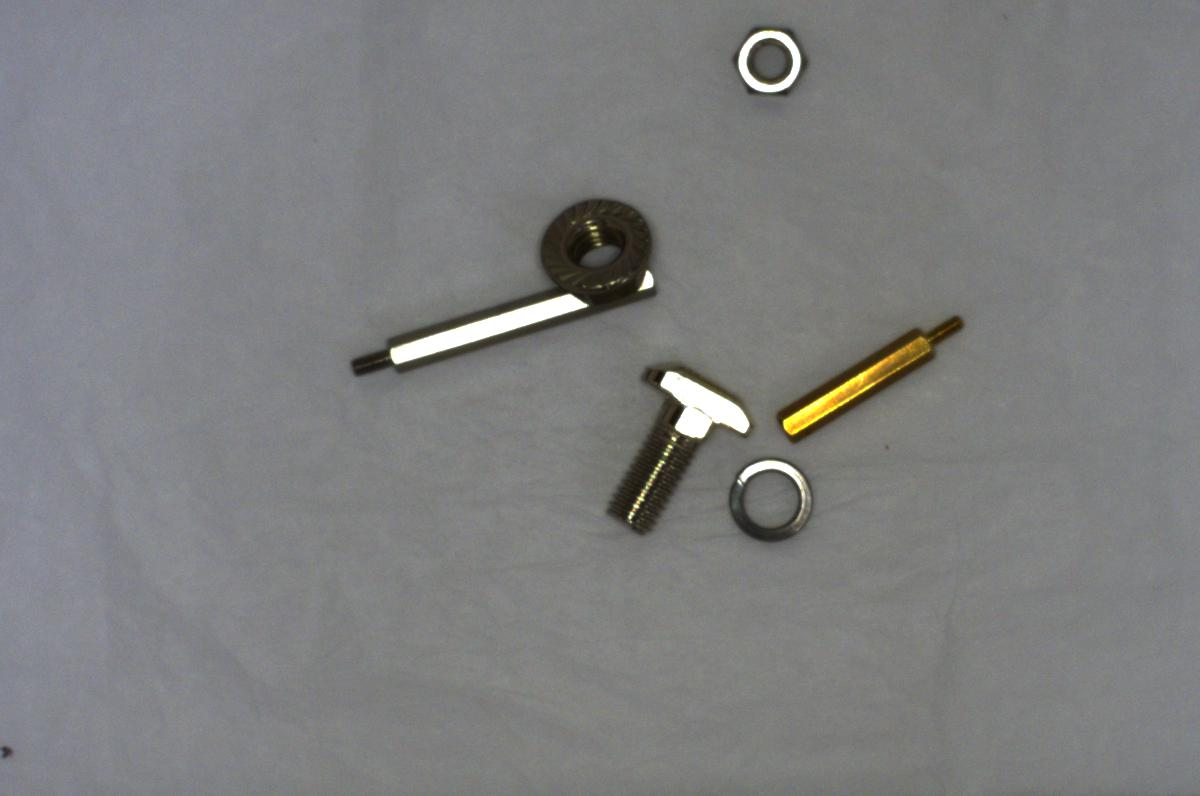Flange nut: (529, 181, 666, 312)
Hexagon nut: (728, 18, 812, 103)
Hexagon pillar: (764, 305, 978, 439)
Hexagonal steel column: (343, 264, 664, 377)
Spring washer: (721, 450, 820, 544)
T-shaped screw: (582, 364, 751, 530)
